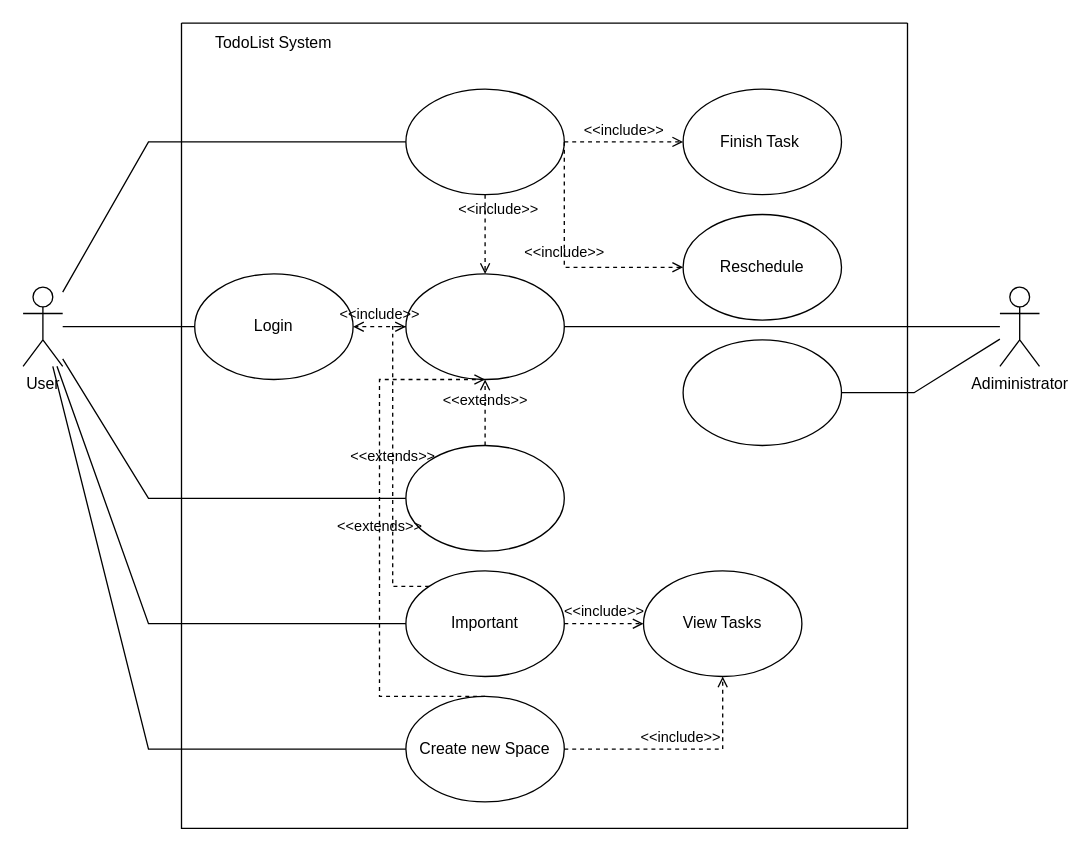
Some shapes in this 1090 by 851 pixel diagram are drawn without their labels. Here are the shapes that lost their labels. From the top down, the box of each, then its label:
(405, 88, 564, 195): Task Management
(405, 273, 564, 380): Task
(682, 339, 842, 446): User Management
(405, 444, 564, 551): Plan Task
